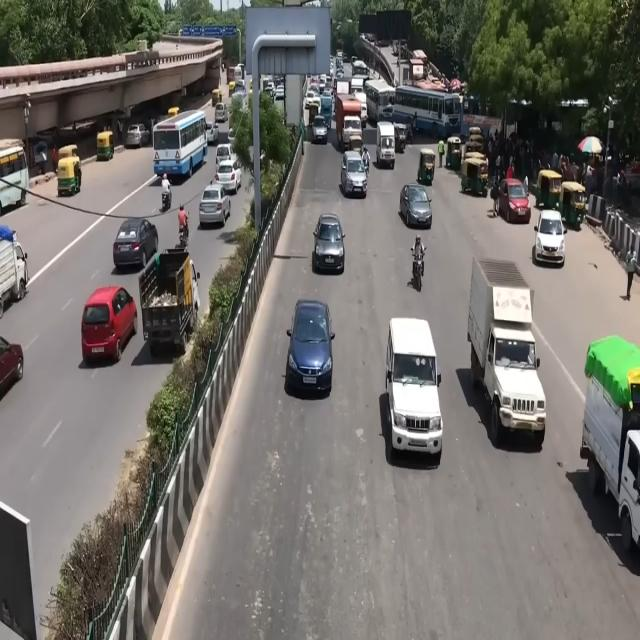auto: (535, 168, 563, 212), (56, 156, 81, 198), (568, 185, 588, 228), (417, 148, 436, 185), (446, 135, 463, 170), (96, 131, 114, 161), (393, 122, 409, 153), (479, 158, 489, 190), (212, 88, 222, 108), (228, 81, 236, 94)
bike-auto: (410, 248, 426, 292), (178, 218, 190, 250), (161, 182, 172, 211), (361, 146, 370, 174)
